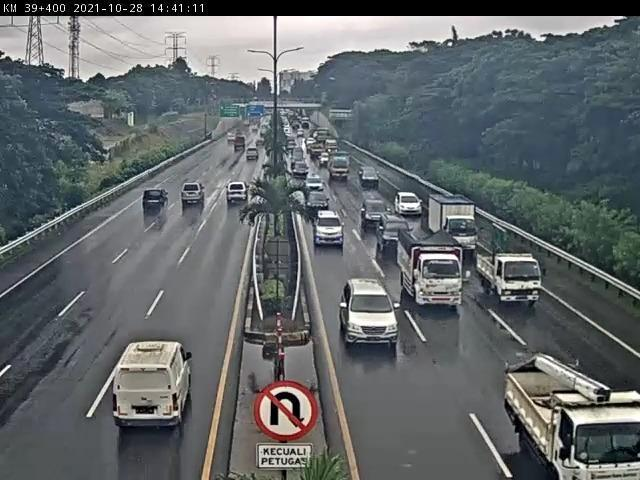car: (112, 341, 194, 429), (341, 280, 402, 351), (375, 210, 411, 248), (313, 209, 345, 246), (360, 201, 390, 229), (394, 191, 425, 217)
truck: (507, 355, 640, 480), (399, 234, 465, 312), (476, 248, 543, 307), (425, 193, 474, 250), (142, 188, 173, 215), (180, 183, 208, 208), (224, 181, 250, 206)
